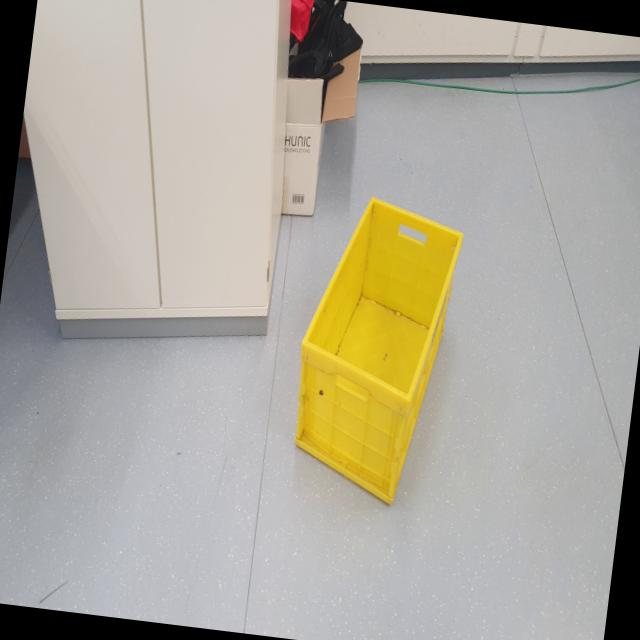box: (278, 186, 472, 533)
